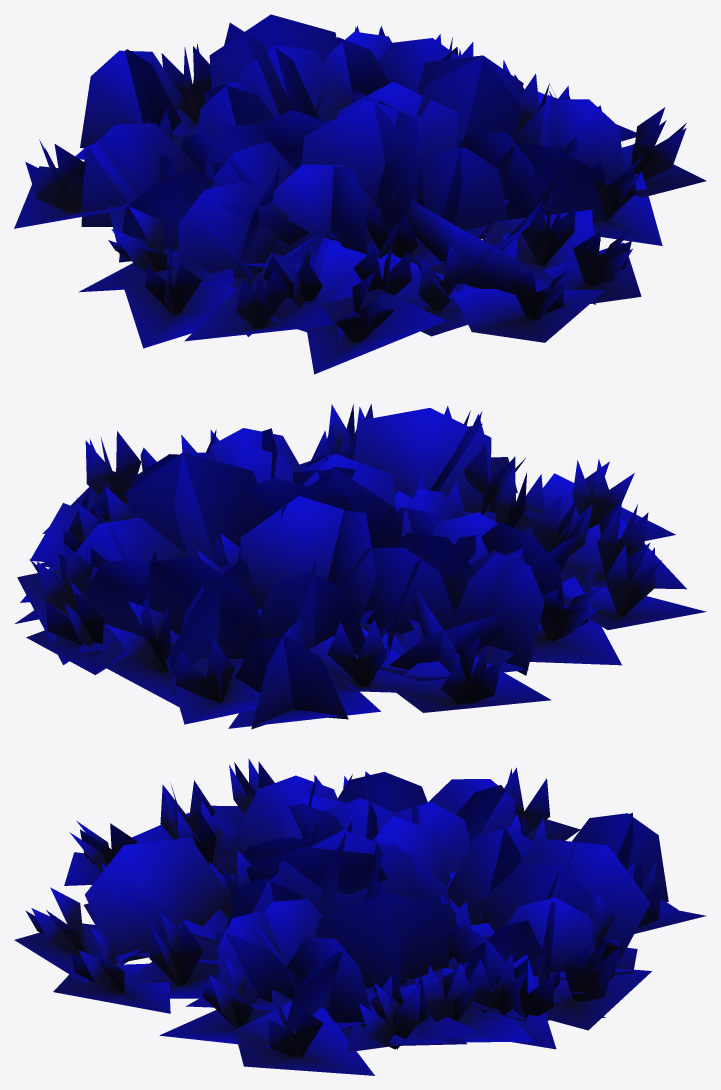
The model's file is SM_WildGrass_05.fbx.
3 renders of one model, top to bottom at view 1: azimuth 30°, elevation 25°; view 2: azimuth 150°, elevation 25°; view 3: azimuth 270°, elevation 25°, orthographic. The views are drawn at different scales.
Parts seen in each view (by area): view 1: SM_WildGrass_05_LOD0; view 2: SM_WildGrass_05_LOD0; view 3: SM_WildGrass_05_LOD0.
Part boxes in pixels (x1,y1,x2,y2): SM_WildGrass_05_LOD0: (14, 14, 706, 374); SM_WildGrass_05_LOD0: (15, 404, 706, 729); SM_WildGrass_05_LOD0: (14, 758, 706, 1075).
Size of the model in its own units: 116 by 124 by 27.48.
